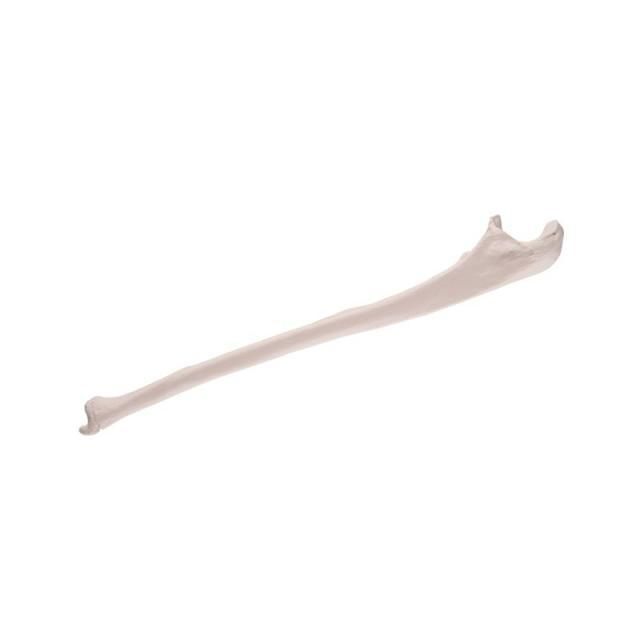bone: (79, 208, 566, 440)
